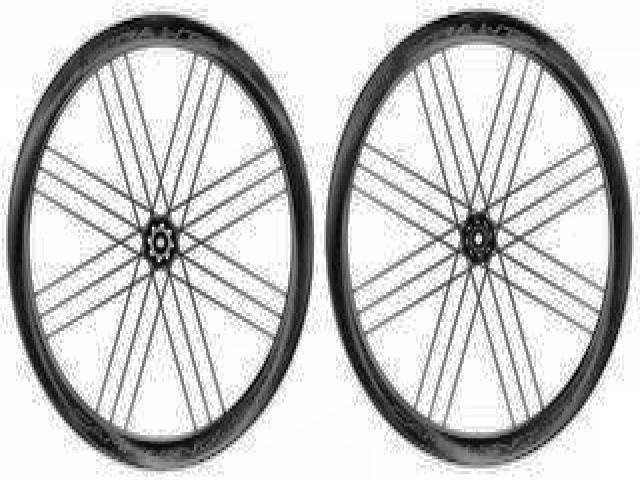wheel: (6, 11, 314, 474), (324, 8, 633, 468)
